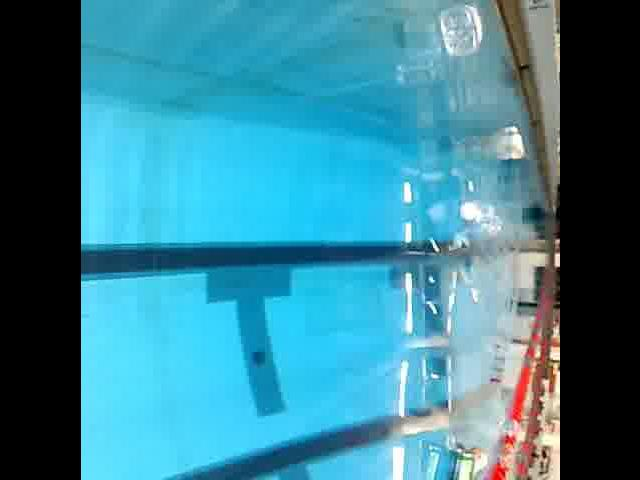Bottle: (434, 0, 488, 63), (453, 192, 505, 246), (502, 118, 526, 164)
Can: (440, 445, 478, 480)
